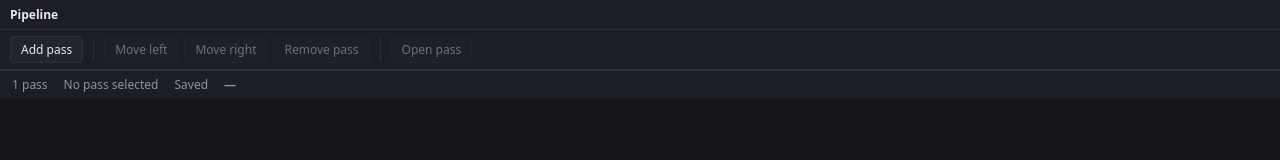
it: Pipeline chrome › Add pass appends a pass and the status bar reflects the count
Expected: the text with test id "status-counts" reads "1 pass", [12,76,48,93]
Click the button "Add pass".
click(47, 50)  # box [10,36,83,63]
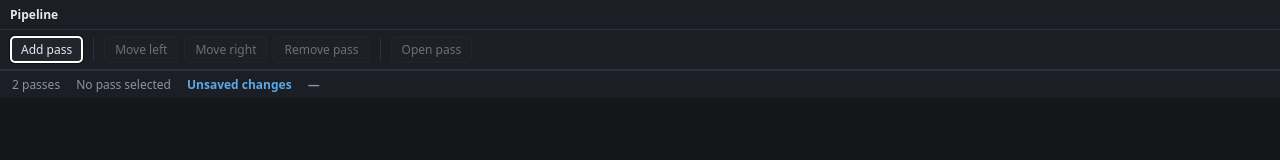
Result: the text with test id "status-counts" reads "2 passes" at [12,76,60,93]
